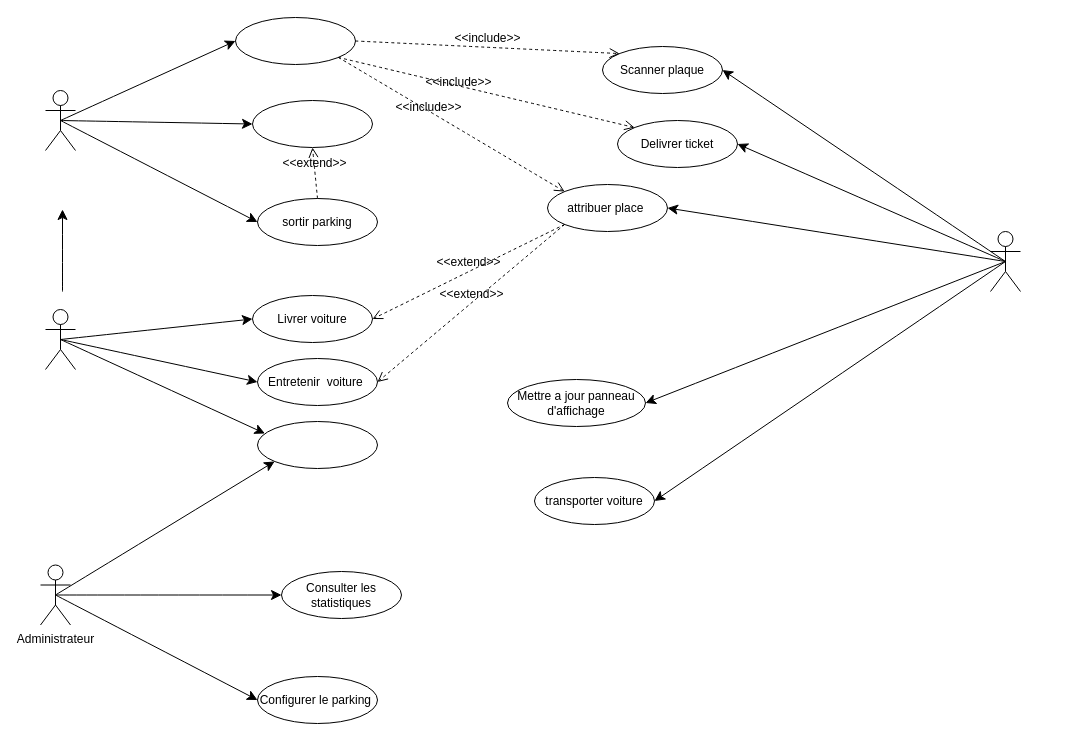
This 1081x741 diagram has some shape labels left out. The shapes that lost their labels are listed below. From the top down, each one's centre as x and y in pixels, then its label:
At pixel 295 40: "Entrer parking".
At pixel 60 120: "Client".
At pixel 312 124: "payer stationnement".
At pixel 1005 261: "Système automatique".
At pixel 60 339: "Abonné".
At pixel 317 444: "Gérer abonnements".
